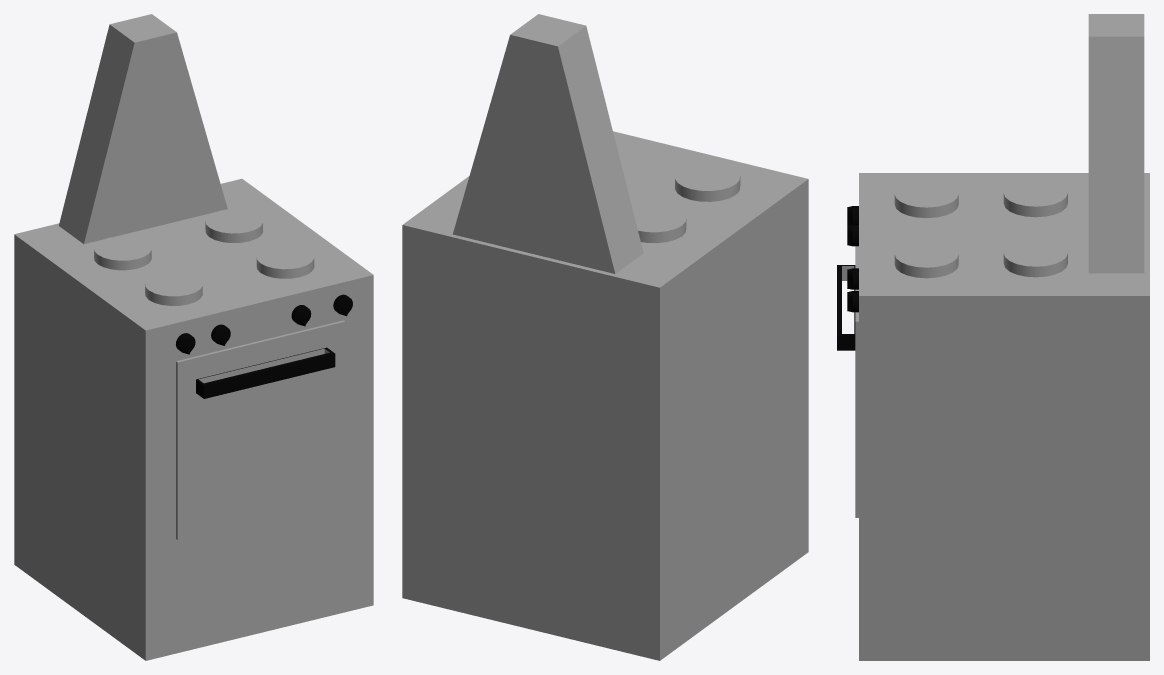
Rendered from stove.fbx.
3 renders of one model, left to right at view 1: azimuth 30°, elevation 25°; view 2: azimuth 150°, elevation 25°; view 3: azimuth 270°, elevation 25°, orthographic. The views are drawn at different scales.
Visible parts, largest first — view 1: pCube7; view 2: pCube7; view 3: pCube7.
Boxes of the visible parts, x1=… form: pCube7: x1=14, y1=14, x2=373, y2=660; pCube7: x1=402, y1=14, x2=808, y2=660; pCube7: x1=837, y1=14, x2=1149, y2=660.
Bounding box in the file's own units: 3.91 × 8.51 × 4.2.
